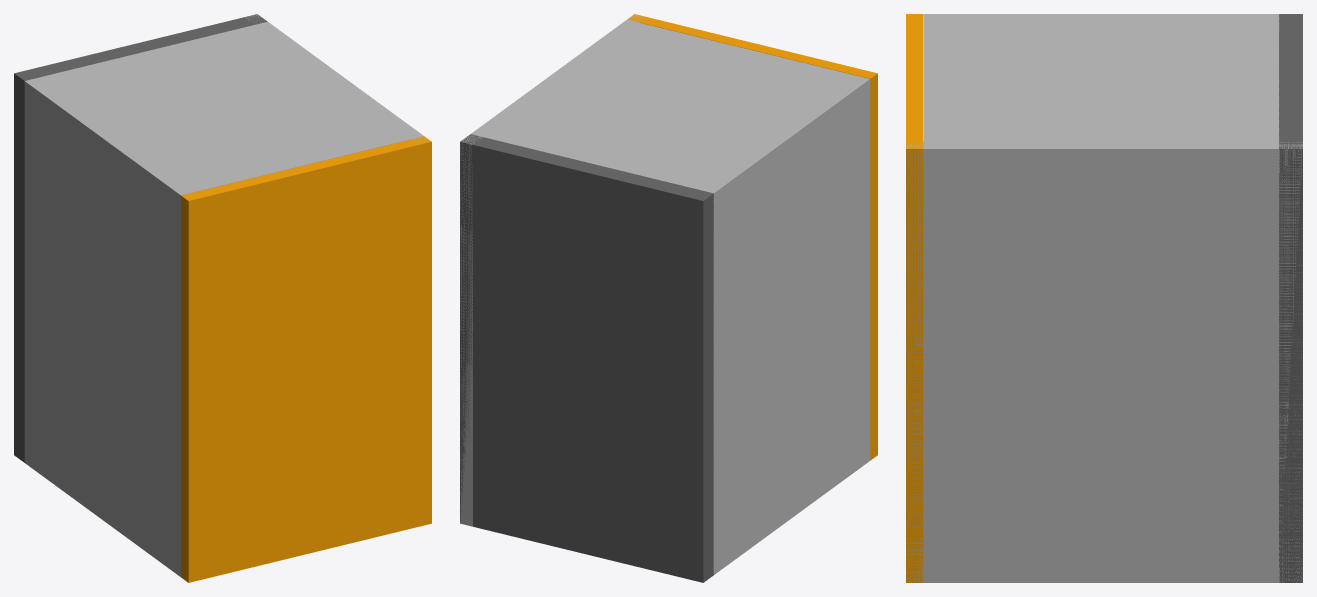
Rendered from nil_link_mesh.dae.
The picture shows the model from 3 angles, left to right: view 1: azimuth 30°, elevation 25°; view 2: azimuth 150°, elevation 25°; view 3: azimuth 270°, elevation 25°; orthographic projection. The views are drawn at different scales.
Parts seen in each view (by area): view 1: nil_link (×5); view 2: nil_link (×6); view 3: nil_link (×5).
Boxes of the visible parts, x1=… form: nil_link (×5): x1=14, y1=14, x2=431, y2=582; nil_link (×6): x1=460, y1=14, x2=877, y2=582; nil_link (×5): x1=906, y1=14, x2=1302, y2=582.
Bounding box in the file's own units: 0.6 × 0.9 × 0.7455.
